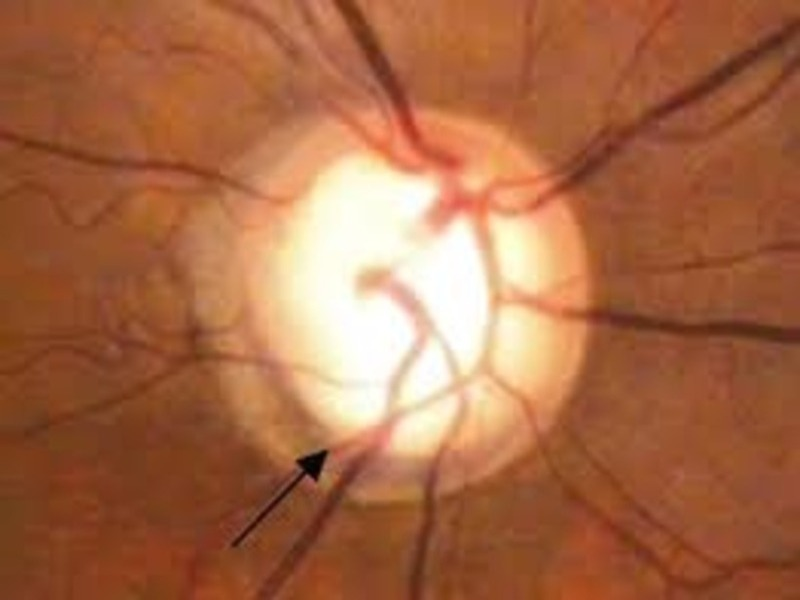Optic Cup: (279, 157, 522, 442)
Optic Disc: (176, 104, 588, 491)
